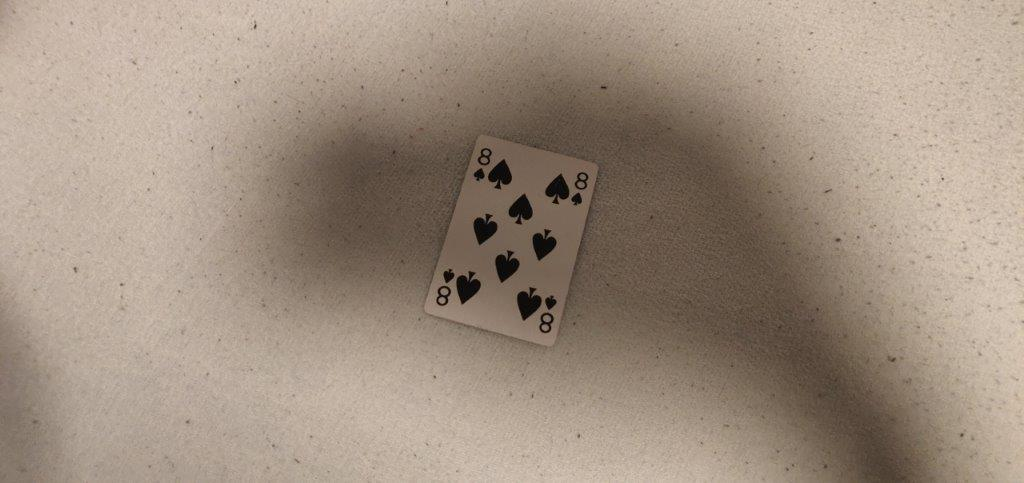8S: (471, 144, 494, 184), (569, 169, 590, 210)
